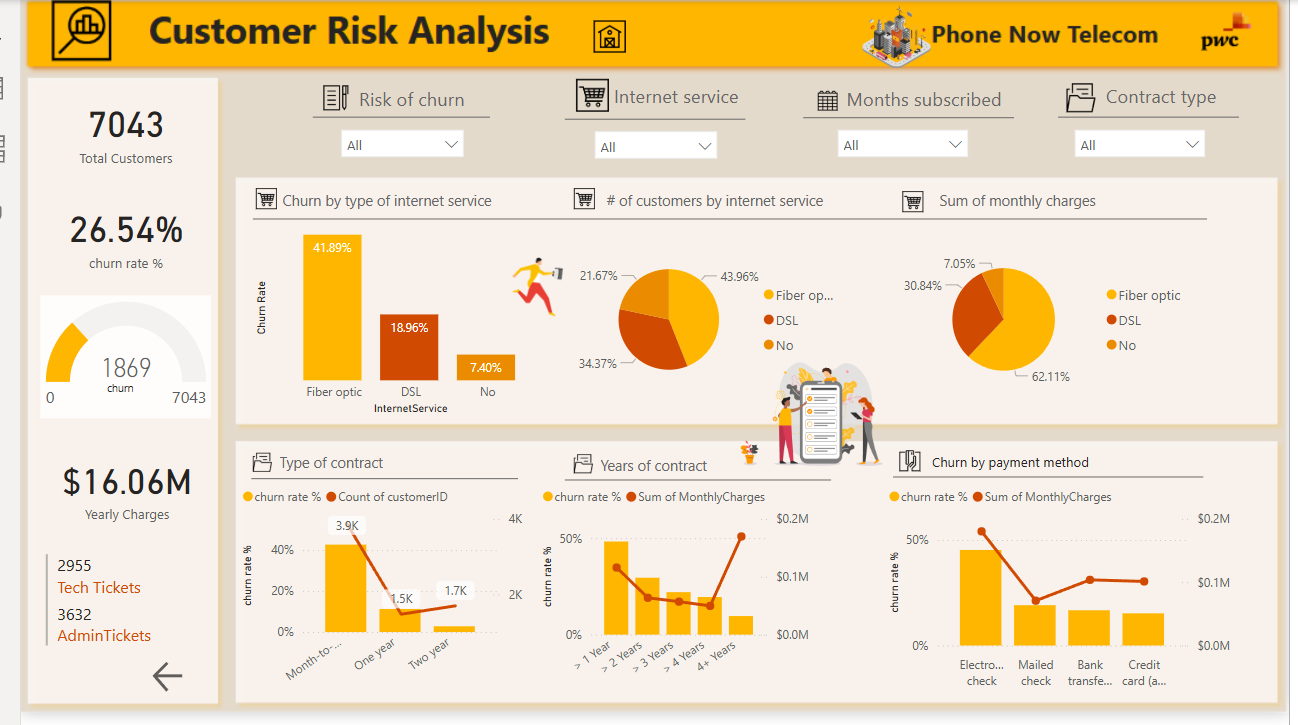

The page's visual inventory and layout, read from the dashboard file:
{"tool":"powerbi","page":{"name":"Risk Analysis","canvas":[1280,720],"ordinal":2},"visuals":[{"type":"card","fields":{"Values":["CountNonNull(Churn.customerID)"]},"box":[20,86,172,90],"z":0},{"type":"card","fields":{"Values":["Churn.churn rate %"]},"box":[20,192,172,90],"z":1000},{"type":"gauge","fields":{"MaxValue":["CountNonNull(Churn.customerID)"],"Y":["Churn.Count of Churn for Yes"]},"box":[20,298,172,124],"z":2000},{"type":"textbox","box":[82,376,48,46],"z":3000},{"type":"card","fields":{"Values":["Sum(Churn.TotalCharges)"]},"box":[20.8,446,172,88.8],"z":4000},{"type":"multiRowCard","fields":{"Values":["Sum(Churn.numTechTickets)","Sum(Churn.numAdminTickets)"]},"box":[20.1,553.7,172.6,109.3],"z":5000},{"type":"textbox","box":[258.2,186.8,300.9,40.5],"z":6000},{"type":"basicShape","box":[223.5,201.3,982.9,39.5],"z":7000},{"type":"image","box":[231.2,183.9,31.8,34.7],"z":8000},{"type":"image","box":[553.4,183.9,31.8,34.7],"z":9000},{"type":"image","box":[884.2,186.8,31.8,34.7],"z":10000},{"type":"textbox","box":[586,186,286,40],"z":11000},{"type":"textbox","box":[922,186,284,40],"z":12000},{"type":"clusteredColumnChart","fields":{"Category":["Churn.InternetService"],"Y":["Churn.churn rate %"]},"box":[232,222,306,200],"z":13000},{"type":"image","box":[488,222,66,130],"z":14000},{"type":"pieChart","fields":{"Y":["CountNonNull(Churn.customerID)"],"Category":["Churn.InternetService"]},"box":[553.7,247.6,281.6,151.2],"z":15000},{"type":"pieChart","fields":{"Category":["Churn.InternetService"],"Y":["Sum(Churn.MonthlyCharges)"]},"box":[884.4,247.6,300.5,151.2],"z":16000},{"type":"textbox","box":[255.8,451.5,237.3,40.5],"z":17000},{"type":"basicShape","box":[539.4,464.1,288.4,39.5],"z":18000},{"type":"basicShape","box":[871.2,462.2,332.8,39.5],"z":19000},{"type":"textbox","box":[914,451.5,270.1,40.5],"z":20000},{"type":"image","box":[881.8,444.8,31.8,39.5],"z":21000},{"type":"image","box":[552.9,444.8,29.9,45.3],"z":22000},{"type":"image","box":[228.8,443.9,29.9,45.3],"z":23000},{"type":"image","box":[712.1,354.2,191,129.3],"z":24000},{"type":"basicShape","box":[223,463,289.1,39.7],"z":25000},{"type":"textbox","box":[580.2,453.5,270.2,39.7],"z":26000},{"type":"lineClusteredColumnComboChart","fields":{"Category":["Churn.Contract"],"Y":["Churn.churn rate %"],"Y2":["CountNonNull(Churn.customerID)"]},"box":[218,481.5,293.8,222.6],"z":27000},{"type":"lineClusteredColumnComboChart","fields":{"Y":["Churn.churn rate %"],"Category":["Churn.Loyalty"],"Y2":["Sum(Churn.MonthlyCharges)"]},"box":[521.6,481.9,279.7,221.1],"z":28000},{"type":"lineClusteredColumnComboChart","fields":{"Y":["Churn.churn rate %"],"Y2":["Sum(Churn.MonthlyCharges)"],"Category":["Churn.PaymentMethod"]},"box":[871.2,481.9,355.3,221.1],"z":29000},{"type":"textbox","box":[336.4,81.3,175.7,41.6],"z":30000},{"type":"basicShape","box":[285.4,98.3,198.4,39.7],"z":31000},{"type":"image","box":[300.5,78.1,35.9,39.7],"z":32000},{"type":"textbox","box":[593.4,79.4,179.5,39.7],"z":33000},{"type":"basicShape","box":[538.6,102,202.2,37.8],"z":34000},{"type":"image","box":[553.7,73.7,45.4,43.5],"z":35000},{"type":"textbox","box":[827.7,81.3,185.2,39.7],"z":36000},{"type":"basicShape","box":[780.5,100.2,232.4,37.8],"z":37000},{"type":"image","box":[778.6,86.9,71.8,30.2],"z":38000},{"type":"basicShape","box":[1037.5,98.3,202.2,39.7],"z":39000},{"type":"textbox","box":[1090.4,79.4,160.6,39.7],"z":40000},{"type":"image","box":[1048.8,79.4,41.6,39.7],"z":41000},{"type":"slicer","fields":{"Values":["Churn.Churn"]},"box":[313.7,120.9,143.6,51],"z":42000},{"type":"slicer","fields":{"Values":["Churn.InternetService"]},"box":[568.8,122.8,143.6,51],"z":43000},{"type":"slicer","fields":{"Values":["Churn.tenure"]},"box":[814.5,120.9,151.2,51],"z":44000},{"type":"slicer","fields":{"Values":["Churn.Contract"]},"box":[1054.5,120.9,151.2,51],"z":45000},{"type":"image","box":[766.5,0,235.9,73.3],"z":46000},{"type":"image","box":[563.7,15.8,61.8,43.1],"z":47000},{"type":"actionButton","box":[129.4,663,63.3,40.3],"z":48000}]}

Visuals, with their boxes in screenshot pixels (x1, y1, x2, y2), scaled from the page's 1280x720 canvas onto the 1298x725 screenshot:
card - CountNonNull(Churn.customerID): (20, 87, 195, 177)
card - Churn.churn rate %: (20, 193, 195, 284)
gauge - CountNonNull(Churn.customerID) x Churn.Count of Churn for Yes: (20, 300, 195, 425)
textbox: (83, 379, 132, 425)
card - Sum(Churn.TotalCharges): (21, 449, 196, 539)
multiRowCard - Sum(Churn.numTechTickets) x Sum(Churn.numAdminTickets): (20, 558, 195, 668)
textbox: (262, 188, 567, 229)
basicShape: (227, 203, 1223, 242)
image: (234, 185, 267, 220)
image: (561, 185, 593, 220)
image: (897, 188, 929, 223)
textbox: (594, 187, 884, 228)
textbox: (935, 187, 1223, 228)
clusteredColumnChart - Churn.InternetService x Churn.churn rate %: (235, 224, 546, 425)
image: (495, 224, 562, 354)
pieChart - CountNonNull(Churn.customerID) x Churn.InternetService: (561, 249, 847, 402)
pieChart - Churn.InternetService x Sum(Churn.MonthlyCharges): (897, 249, 1202, 402)
textbox: (259, 455, 500, 495)
basicShape: (547, 467, 839, 507)
basicShape: (883, 465, 1221, 505)
textbox: (927, 455, 1201, 495)
image: (894, 448, 926, 488)
image: (561, 448, 591, 494)
image: (232, 447, 262, 493)
image: (722, 357, 916, 487)
basicShape: (226, 466, 519, 506)
textbox: (588, 457, 862, 497)
lineClusteredColumnComboChart - Churn.Contract x Churn.churn rate %: (221, 485, 519, 709)
lineClusteredColumnComboChart - Churn.churn rate % x Churn.Loyalty: (529, 485, 813, 708)
lineClusteredColumnComboChart - Churn.churn rate % x Sum(Churn.MonthlyCharges): (883, 485, 1244, 708)
textbox: (341, 82, 519, 124)
basicShape: (289, 99, 491, 139)
image: (305, 79, 341, 119)
textbox: (602, 80, 784, 120)
basicShape: (546, 103, 751, 141)
image: (561, 74, 608, 118)
textbox: (839, 82, 1027, 122)
basicShape: (791, 101, 1027, 139)
image: (790, 88, 862, 118)
basicShape: (1052, 99, 1257, 139)
textbox: (1106, 80, 1269, 120)
image: (1064, 80, 1106, 120)
slicer - Churn.Churn: (318, 122, 464, 173)
slicer - Churn.InternetService: (577, 124, 722, 175)
slicer - Churn.tenure: (826, 122, 979, 173)
slicer - Churn.Contract: (1069, 122, 1223, 173)
image: (777, 0, 1016, 74)
image: (572, 16, 634, 59)
actionButton: (131, 668, 195, 708)
